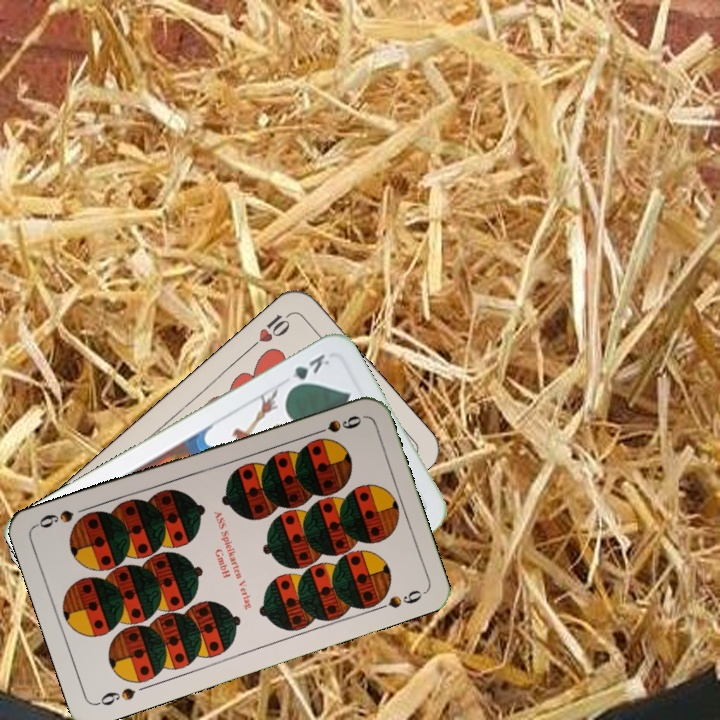GK: (284, 349, 333, 393)
H10: (246, 308, 294, 352)
S9: (307, 411, 365, 439), (93, 683, 138, 708)
